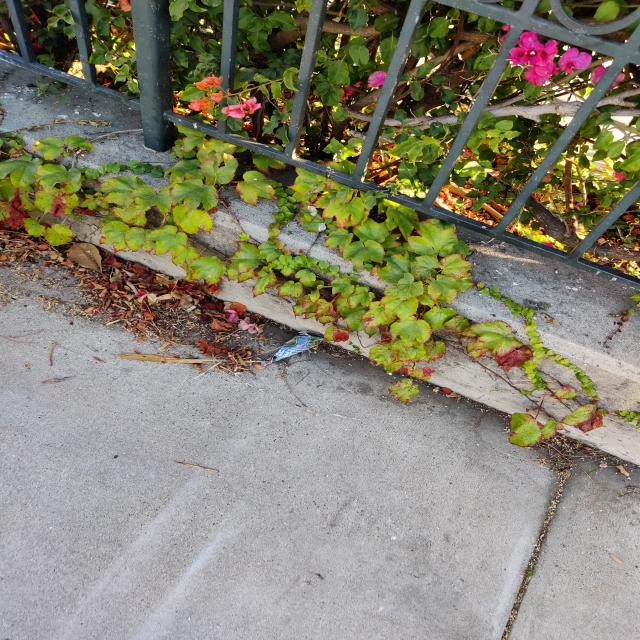litter: (265, 332, 314, 362)
